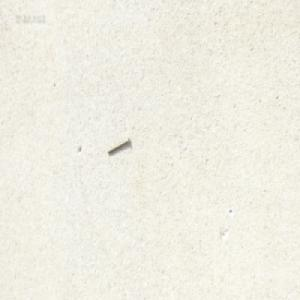Bolt: (106, 135, 129, 154)
